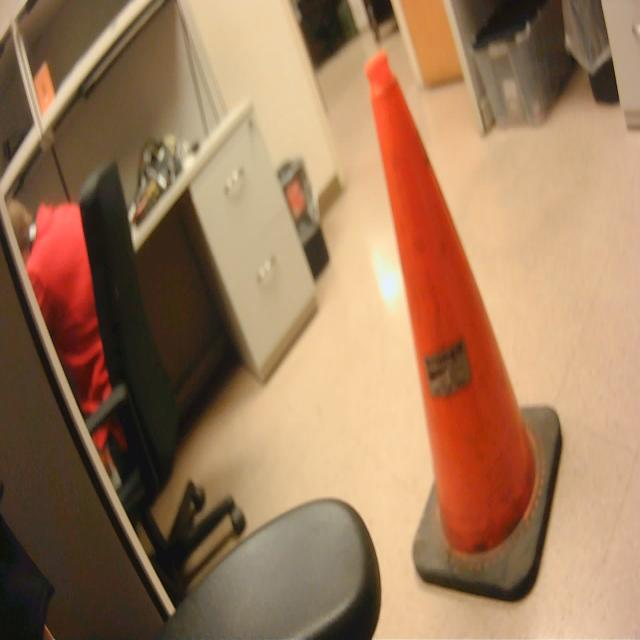traffic cone: (364, 46, 568, 608)
